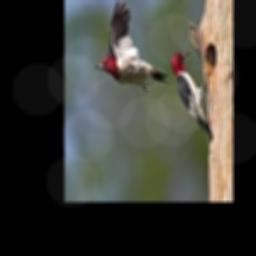Woodpecker: (94, 1, 169, 91), (170, 51, 213, 142)
